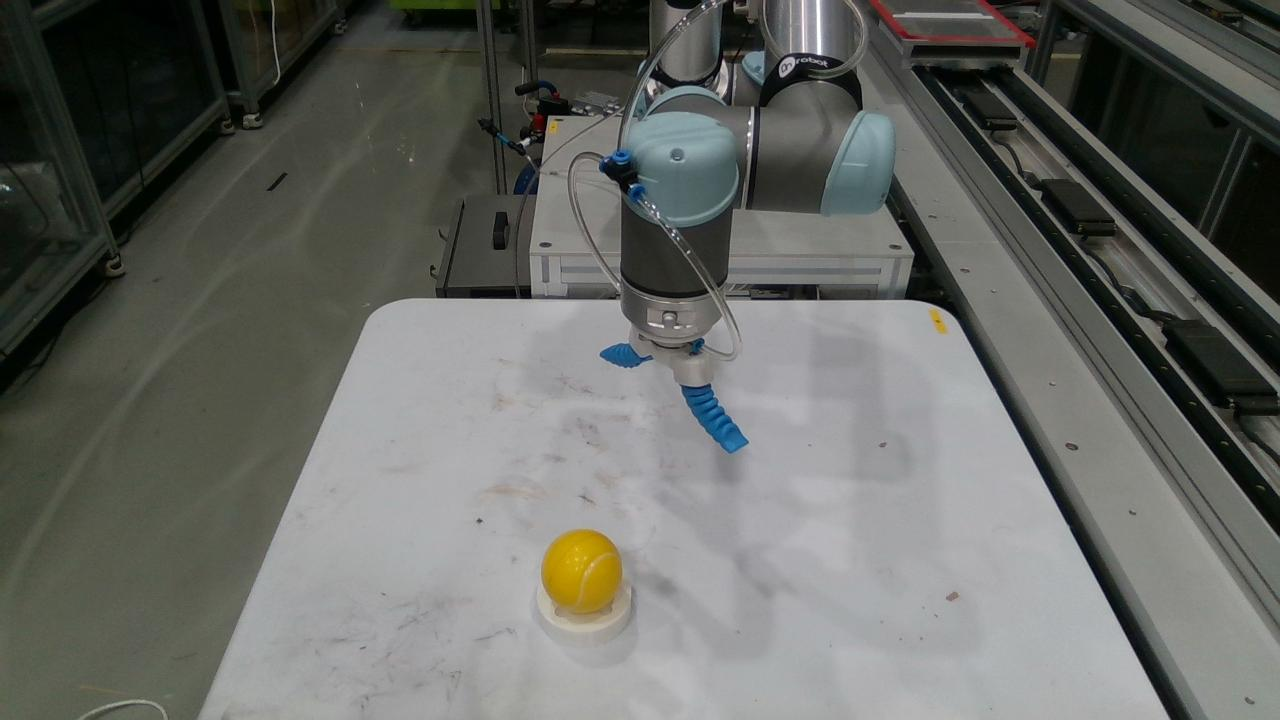UR5: (620, 0, 896, 386)
gripper_left: (599, 342, 654, 368)
gripper_right: (681, 384, 748, 453)
target: (541, 530, 623, 613), (536, 581, 632, 643)
